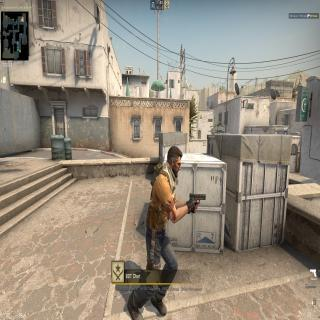T-Head: (166, 143, 184, 182)
